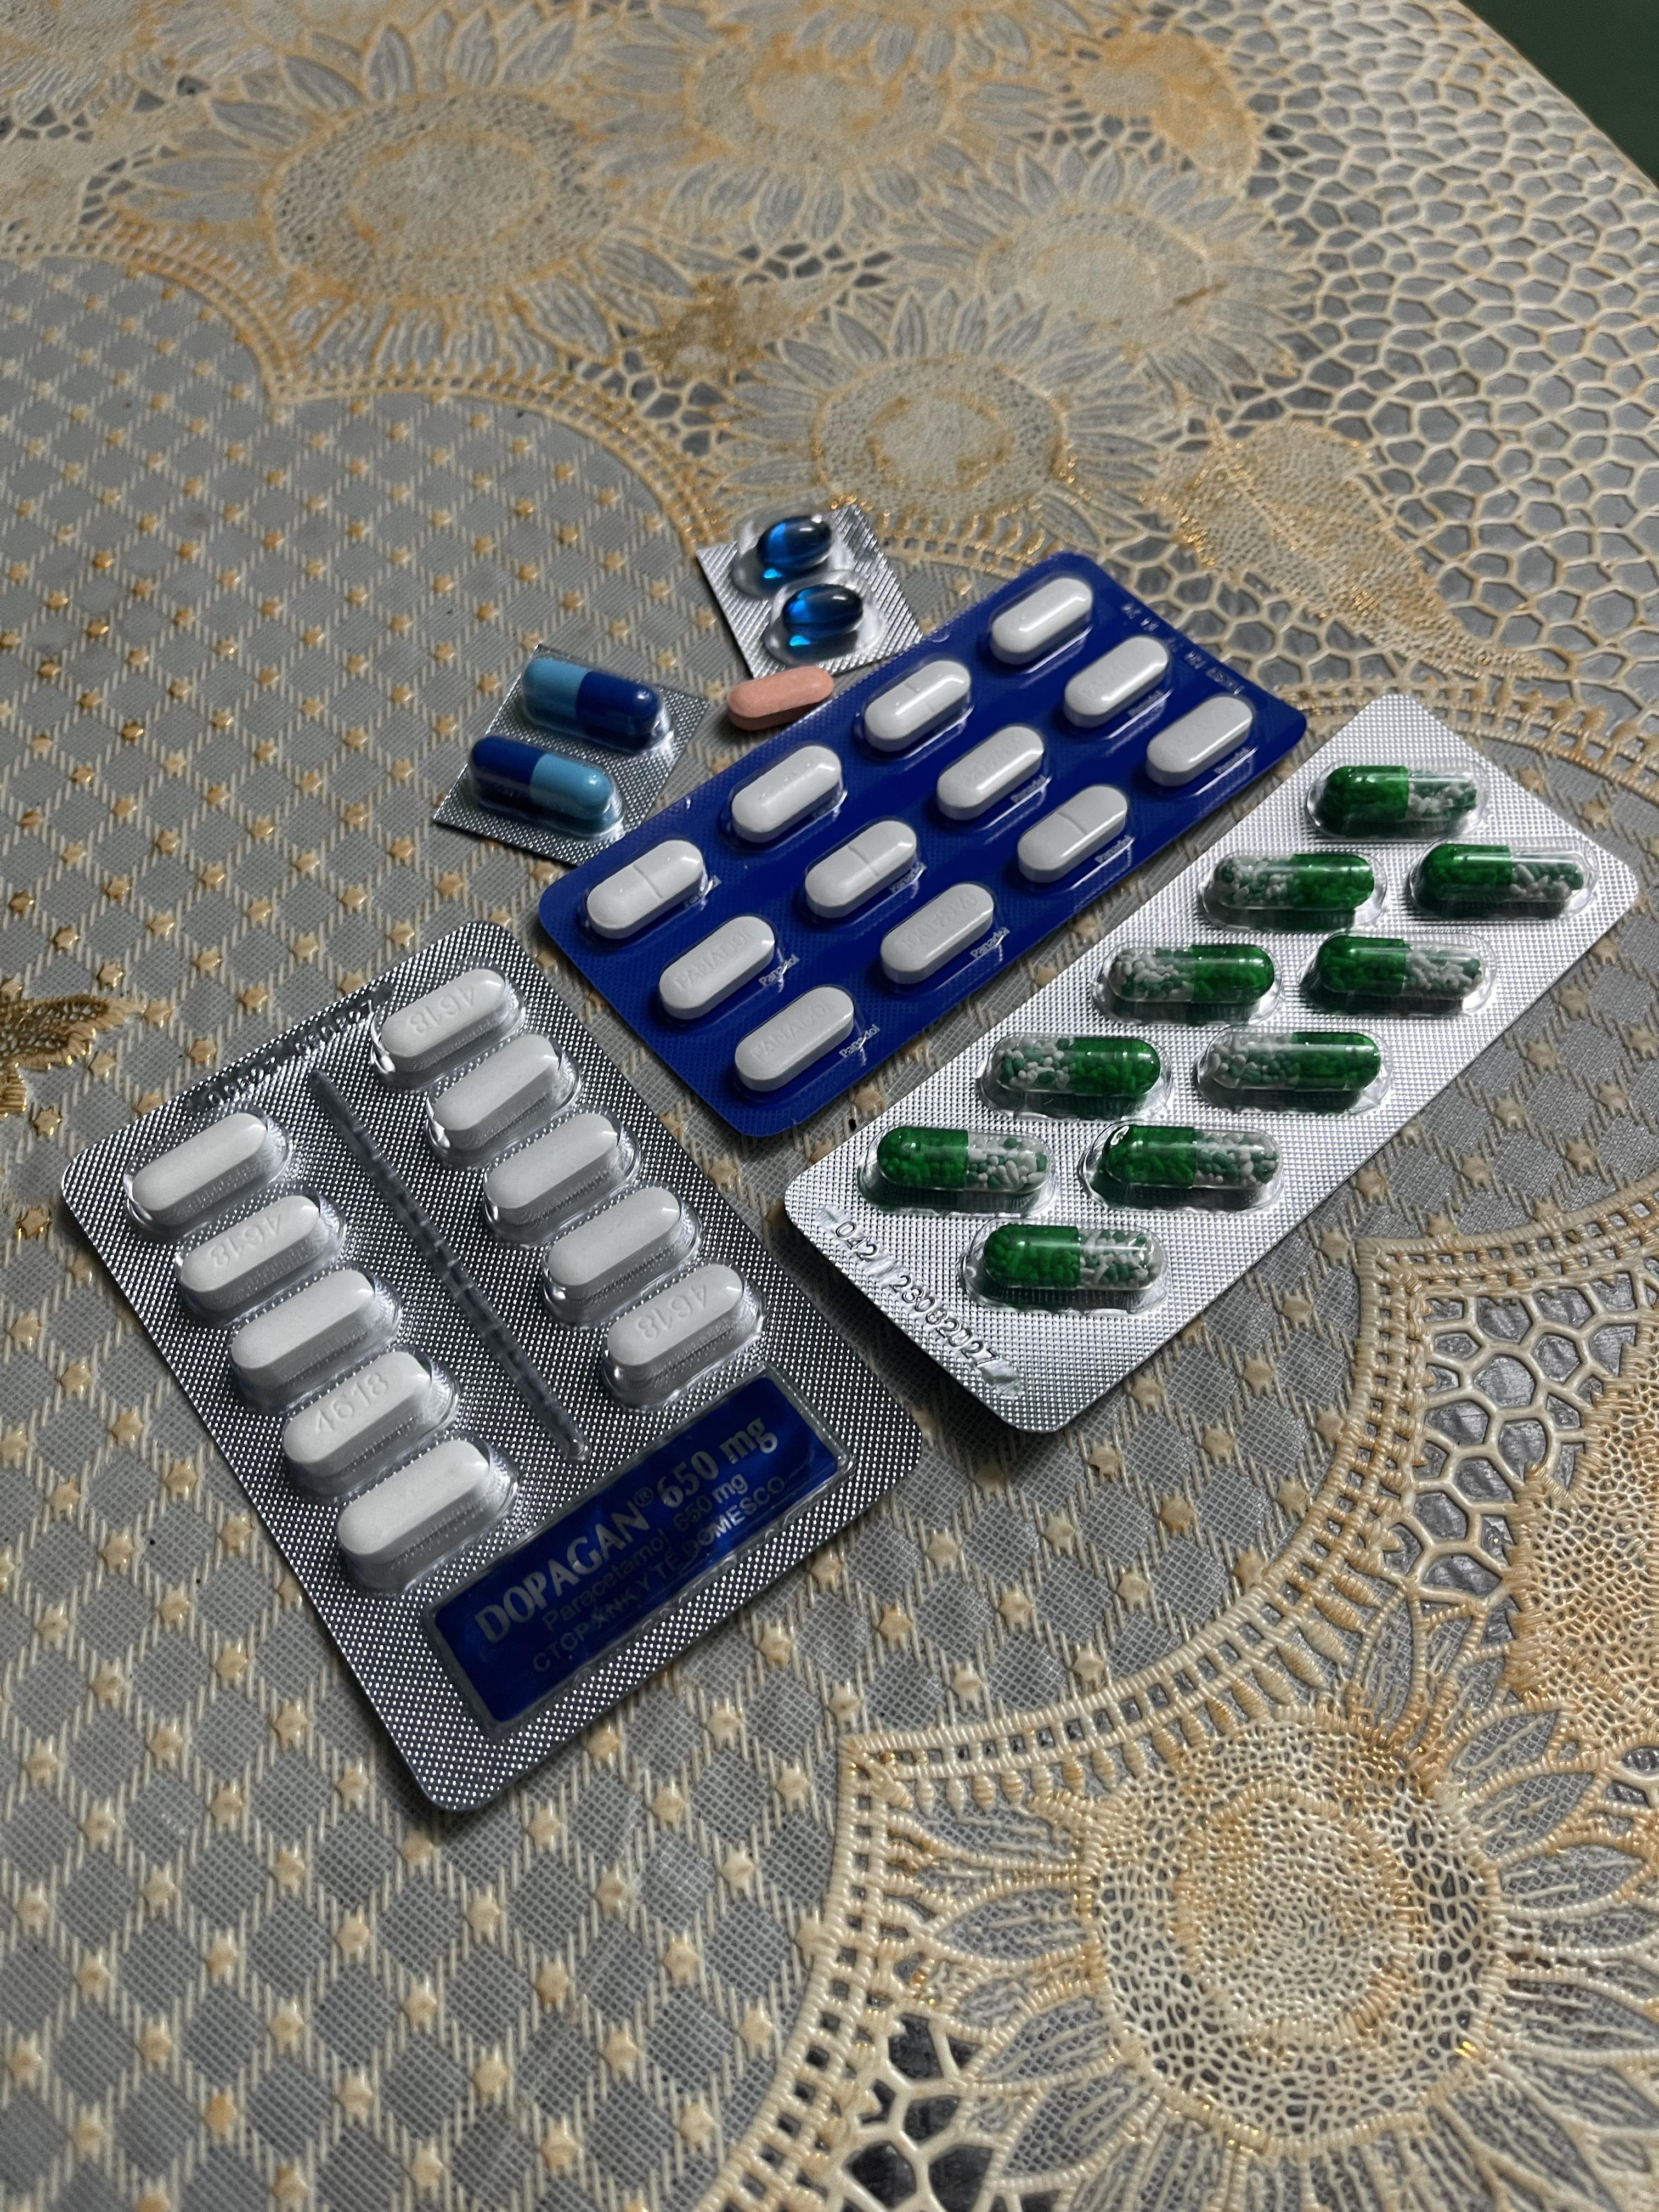Lincomyxin_500mg: (756, 514, 836, 577), (781, 582, 864, 639)
Loratadine_10mg: (725, 667, 835, 730)
Paracetamol_350mg: (659, 918, 781, 1022), (587, 838, 708, 942), (880, 883, 999, 986), (803, 819, 918, 920), (734, 988, 850, 1087), (932, 725, 1046, 822), (728, 744, 842, 840), (1018, 787, 1127, 885), (863, 658, 972, 752), (1065, 634, 1171, 728), (1143, 695, 1251, 786), (990, 575, 1094, 665)
Paracetamol_500mg: (331, 1437, 507, 1588), (277, 1348, 448, 1493), (228, 1266, 394, 1407), (176, 1191, 342, 1322), (542, 1188, 701, 1322), (608, 1264, 756, 1406), (131, 1111, 282, 1230), (479, 1113, 626, 1233), (425, 1040, 570, 1155), (375, 975, 518, 1076)
Paracetamol_650mg: (972, 1224, 1155, 1308), (882, 1120, 1065, 1193), (1309, 937, 1478, 1005), (1110, 946, 1272, 1015), (1312, 765, 1478, 833), (1211, 1031, 1385, 1096), (1096, 1127, 1265, 1191), (1420, 846, 1577, 913), (1216, 855, 1371, 921), (1000, 1035, 1157, 1096)
pill: (523, 655, 664, 747), (469, 737, 617, 824)
